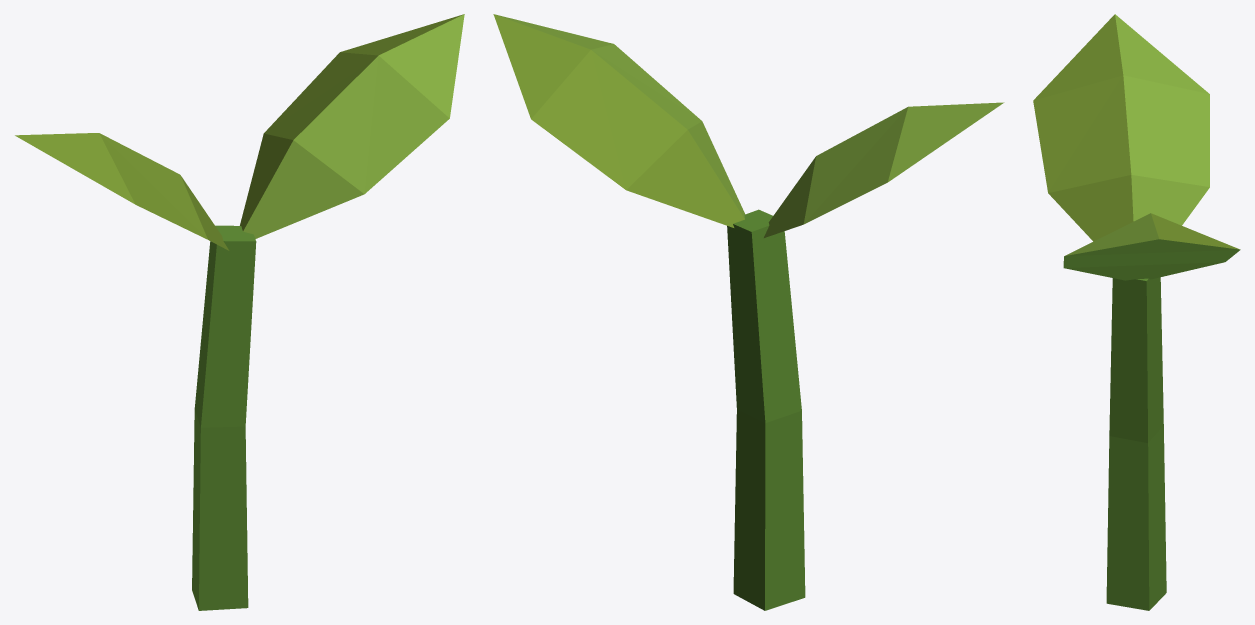
Rendered from plant_sprout.glb.
3 renders of one model, left to right at view 1: azimuth 30°, elevation 25°; view 2: azimuth 150°, elevation 25°; view 3: azimuth 270°, elevation 25°, orthographic. The views are drawn at different scales.
Visible parts, largest first — view 1: plant_sprout; view 2: plant_sprout; view 3: plant_sprout.
Boxes of the visible parts, x1=… form: plant_sprout: x1=15, y1=14, x2=464, y2=610; plant_sprout: x1=493, y1=14, x2=1004, y2=610; plant_sprout: x1=1033, y1=14, x2=1240, y2=610.
Size of the model in its own units: 0.1371 by 0.1451 by 0.0562.
